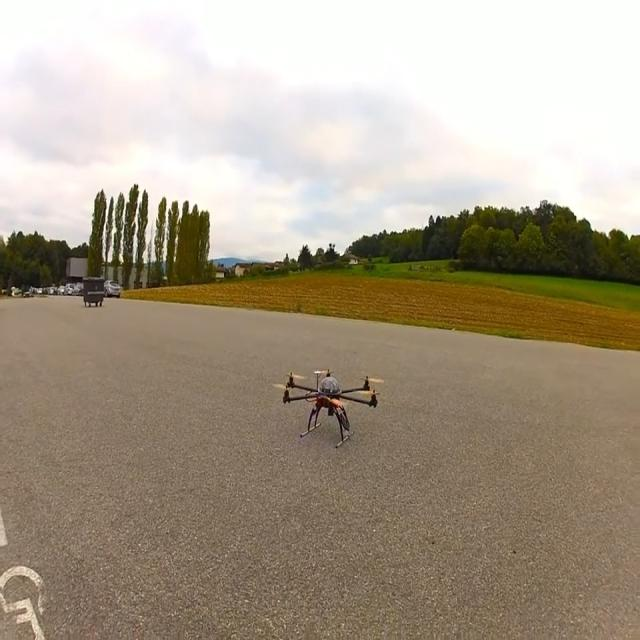drone: (278, 367, 381, 448)
